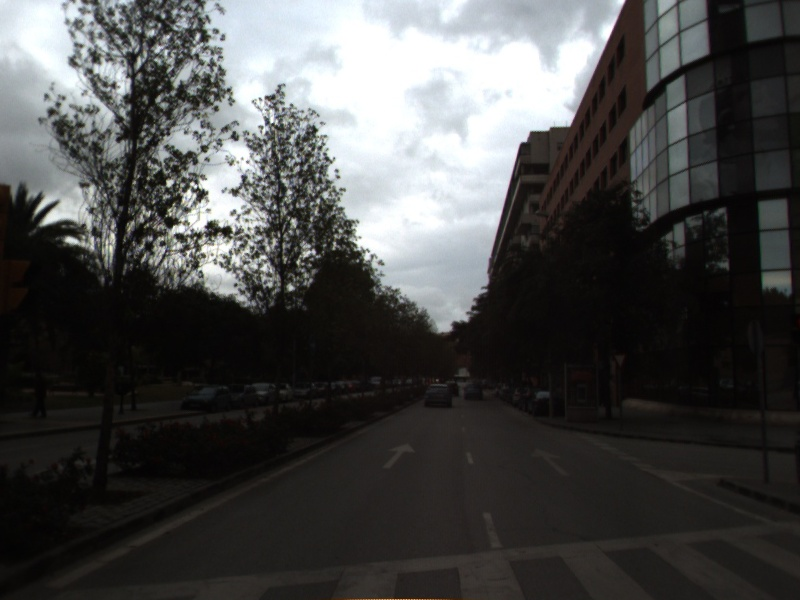STRAIGHT: (529, 446, 573, 478), (380, 441, 417, 471)
